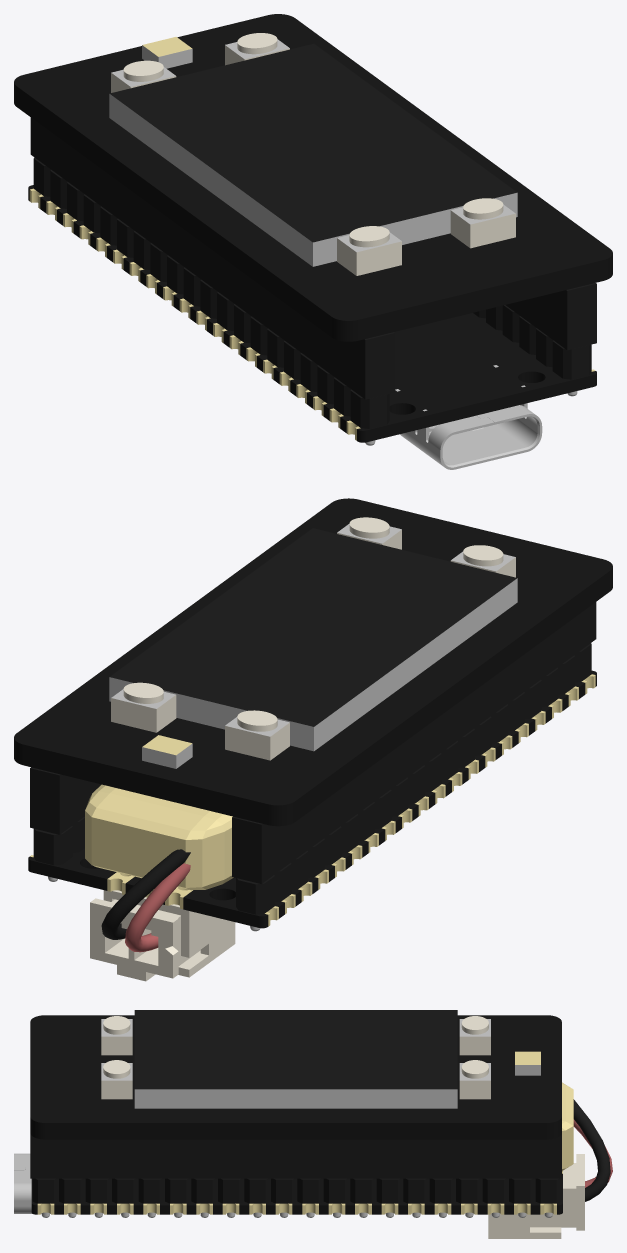
Rendered from bumblebee.gltf.
3 renders of one model, top to bottom at view 1: azimuth 30°, elevation 25°; view 2: azimuth 150°, elevation 25°; view 3: azimuth 270°, elevation 25°, orthographic. The views are drawn at different scales.
Parts seen in each view (by area): view 1: Display, Pico Display Pack, Female headers, Pico LiPo, Pin headers, USB C, Header holes, B, A, X, Y, RGB LED; view 2: Display, Pico Display Pack, Female headers, Pin headers, Battery, Pico LiPo, JST male, Header holes, JST female, Y, X, Ground (+4 smaller); view 3: Display, Pico Display Pack, Female headers, Pin headers, Header holes, Pico LiPo, JST female, JST male, Ground, A, B, X (+4 smaller).
Boxes of the visible parts, box(x1,y1,x2,y2) form: Display: box(109, 43, 517, 266); Pico Display Pack: box(14, 14, 612, 341); Female headers: box(30, 117, 596, 399); Pico LiPo: box(28, 185, 596, 442); Pin headers: box(33, 157, 591, 445); USB C: box(395, 365, 542, 469); Header holes: box(29, 188, 595, 440); B: box(450, 198, 515, 248); A: box(337, 226, 401, 275); X: box(111, 60, 176, 92); Y: box(225, 33, 289, 65); RGB LED: box(142, 37, 192, 68); Display: box(109, 528, 517, 751); Pico Display Pack: box(14, 498, 612, 826); Female headers: box(30, 602, 596, 883); Pin headers: box(33, 643, 591, 931); Battery: box(85, 784, 233, 890); Pico LiPo: box(28, 670, 596, 928); JST male: box(90, 898, 200, 981); Header holes: box(30, 674, 595, 926); JST female: box(103, 890, 235, 977); Y: box(111, 682, 176, 732); X: box(225, 710, 289, 760); Ground: box(101, 849, 190, 939); Display: box(134, 1010, 457, 1108); Pico Display Pack: box(30, 1015, 561, 1139); Female headers: box(30, 1133, 561, 1178); Pin headers: box(32, 1178, 561, 1217); Header holes: box(37, 1171, 562, 1214); Pico LiPo: box(31, 1173, 562, 1214); JST female: box(488, 1213, 561, 1238); JST male: box(530, 1154, 584, 1230); Ground: box(573, 1099, 610, 1201); A: box(101, 1016, 132, 1055); B: box(101, 1060, 132, 1099); X: box(459, 1016, 490, 1055).
Bounding box in the file's own units: 0.0245 × 0.0188 × 0.0575.
